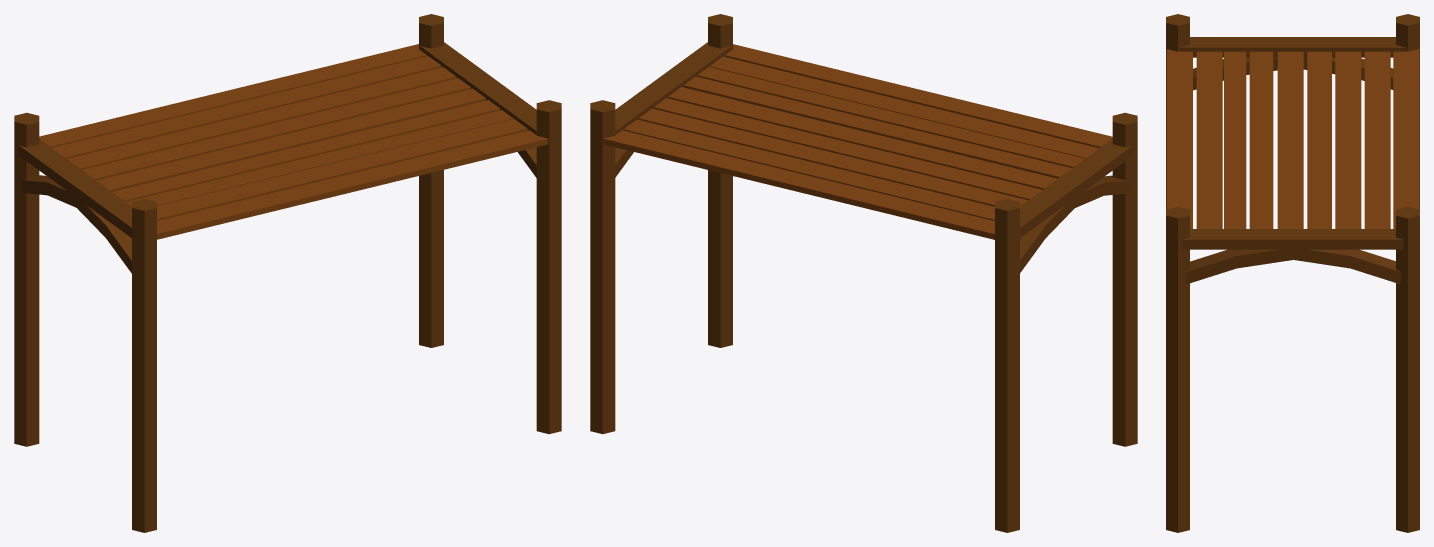
Rendered from Mesh_Mid_Dock.fbx.
3 renders of one model, left to right at view 1: azimuth 30°, elevation 25°; view 2: azimuth 150°, elevation 25°; view 3: azimuth 270°, elevation 25°, orthographic. The views are drawn at different scales.
Visible parts, largest first — view 1: Mid_Dock; view 2: Mid_Dock; view 3: Mid_Dock.
Part boxes in pixels (<box>): Mid_Dock: <box>14,14,561,532</box>; Mid_Dock: <box>590,14,1137,532</box>; Mid_Dock: <box>1166,14,1419,532</box>.
Bounding box in the file's own units: 700 × 502 × 367.
1 material, 1 textured.
